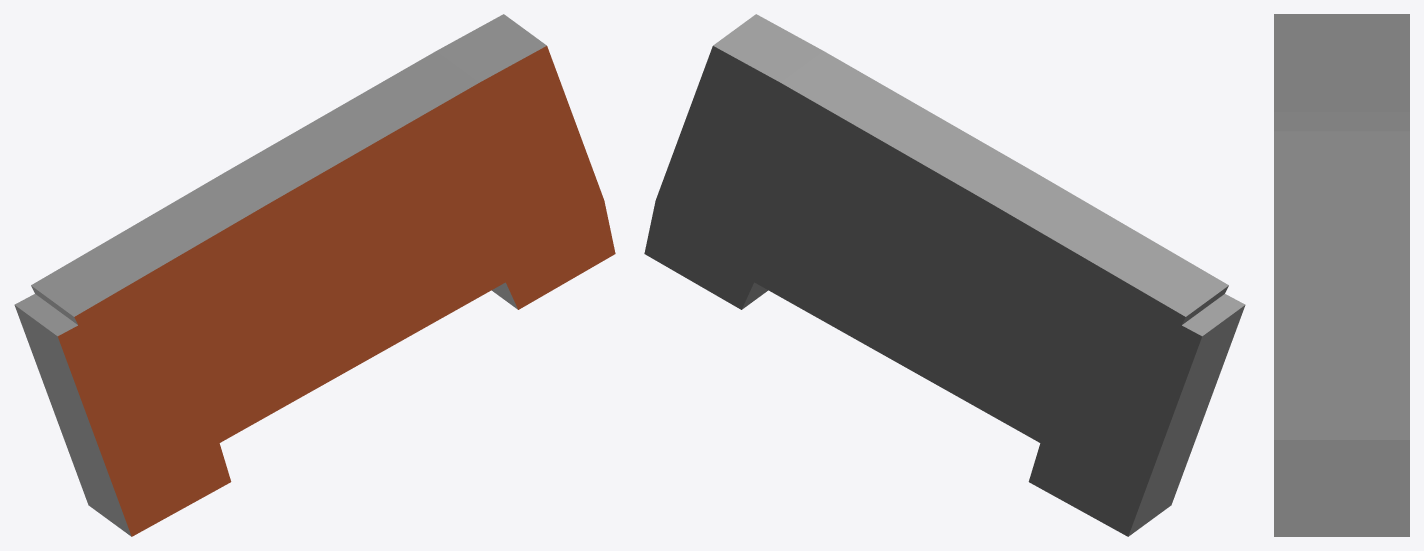
File: construction_3859_assumed_A_Casa_h6m.obj
3 renders of one model, left to right at view 1: azimuth 30°, elevation 25°; view 2: azimuth 150°, elevation 25°; view 3: azimuth 270°, elevation 25°, orthographic. The views are drawn at different scales.
Parts seen in each view (by area): view 1: construction_3859_assumed_A_Casa; view 2: construction_3859_assumed_A_Casa; view 3: construction_3859_assumed_A_Casa.
Part boxes in pixels (bbox=[...]): construction_3859_assumed_A_Casa: bbox=[14, 14, 615, 536]; construction_3859_assumed_A_Casa: bbox=[644, 14, 1245, 536]; construction_3859_assumed_A_Casa: bbox=[1274, 14, 1409, 536].
Bounding box in the file's own units: 44.65 × 29.83 × 6.
